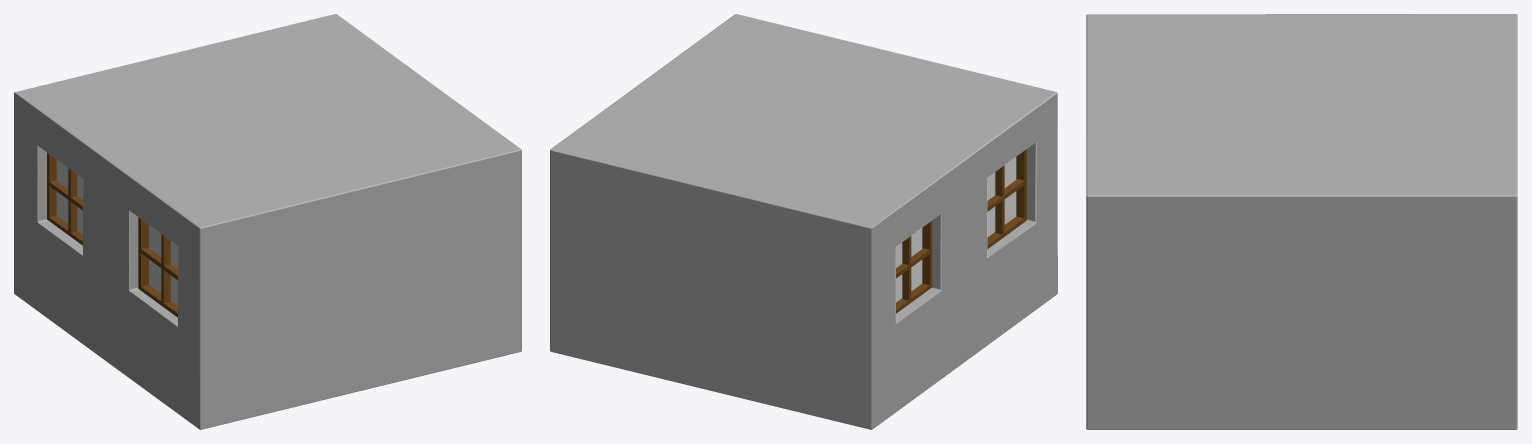
File: F_Door_1.fbx
3 renders of one model, left to right at view 1: azimuth 30°, elevation 25°; view 2: azimuth 150°, elevation 25°; view 3: azimuth 270°, elevation 25°, orthographic. The views are drawn at different scales.
Parts seen in each view (by area): view 1: Wall.002, Window_1.001, Window_2.002; view 2: Wall.002, Window_1.001, Window_2.002; view 3: Wall.002.
Boxes of the visible parts, box(x1,y1,x2,y2) form: Wall.002: box(14, 14, 521, 429); Window_1.001: box(138, 217, 177, 317); Window_2.002: box(47, 153, 82, 245); Wall.002: box(550, 14, 1057, 429); Window_1.001: box(987, 149, 1026, 248); Window_2.002: box(896, 220, 932, 313); Wall.002: box(1086, 14, 1517, 429).
Bounding box in the file's own units: 500 × 300 × 500.
